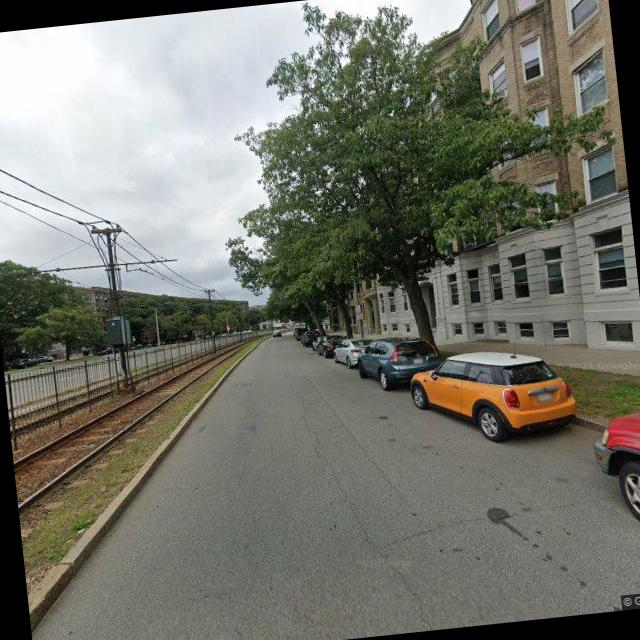crack: (308, 422, 419, 622), (372, 510, 486, 550)
